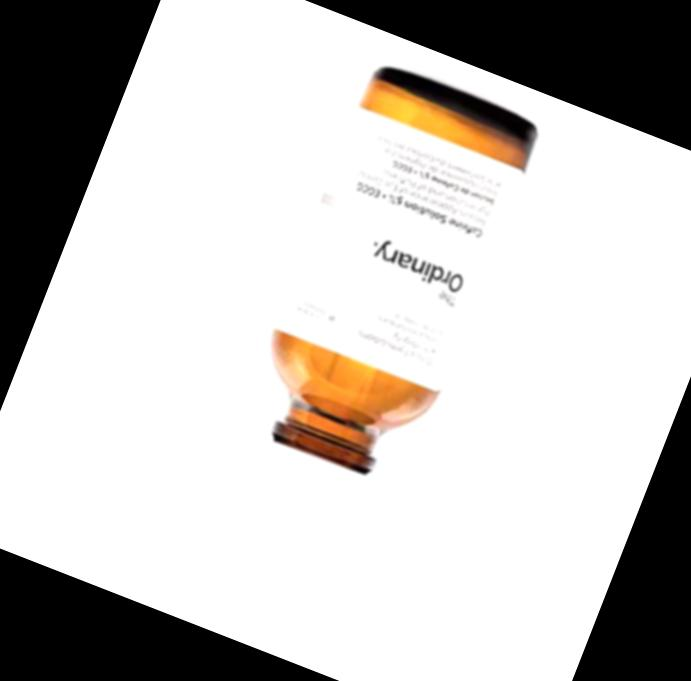cosmetic: (169, 61, 546, 652)
